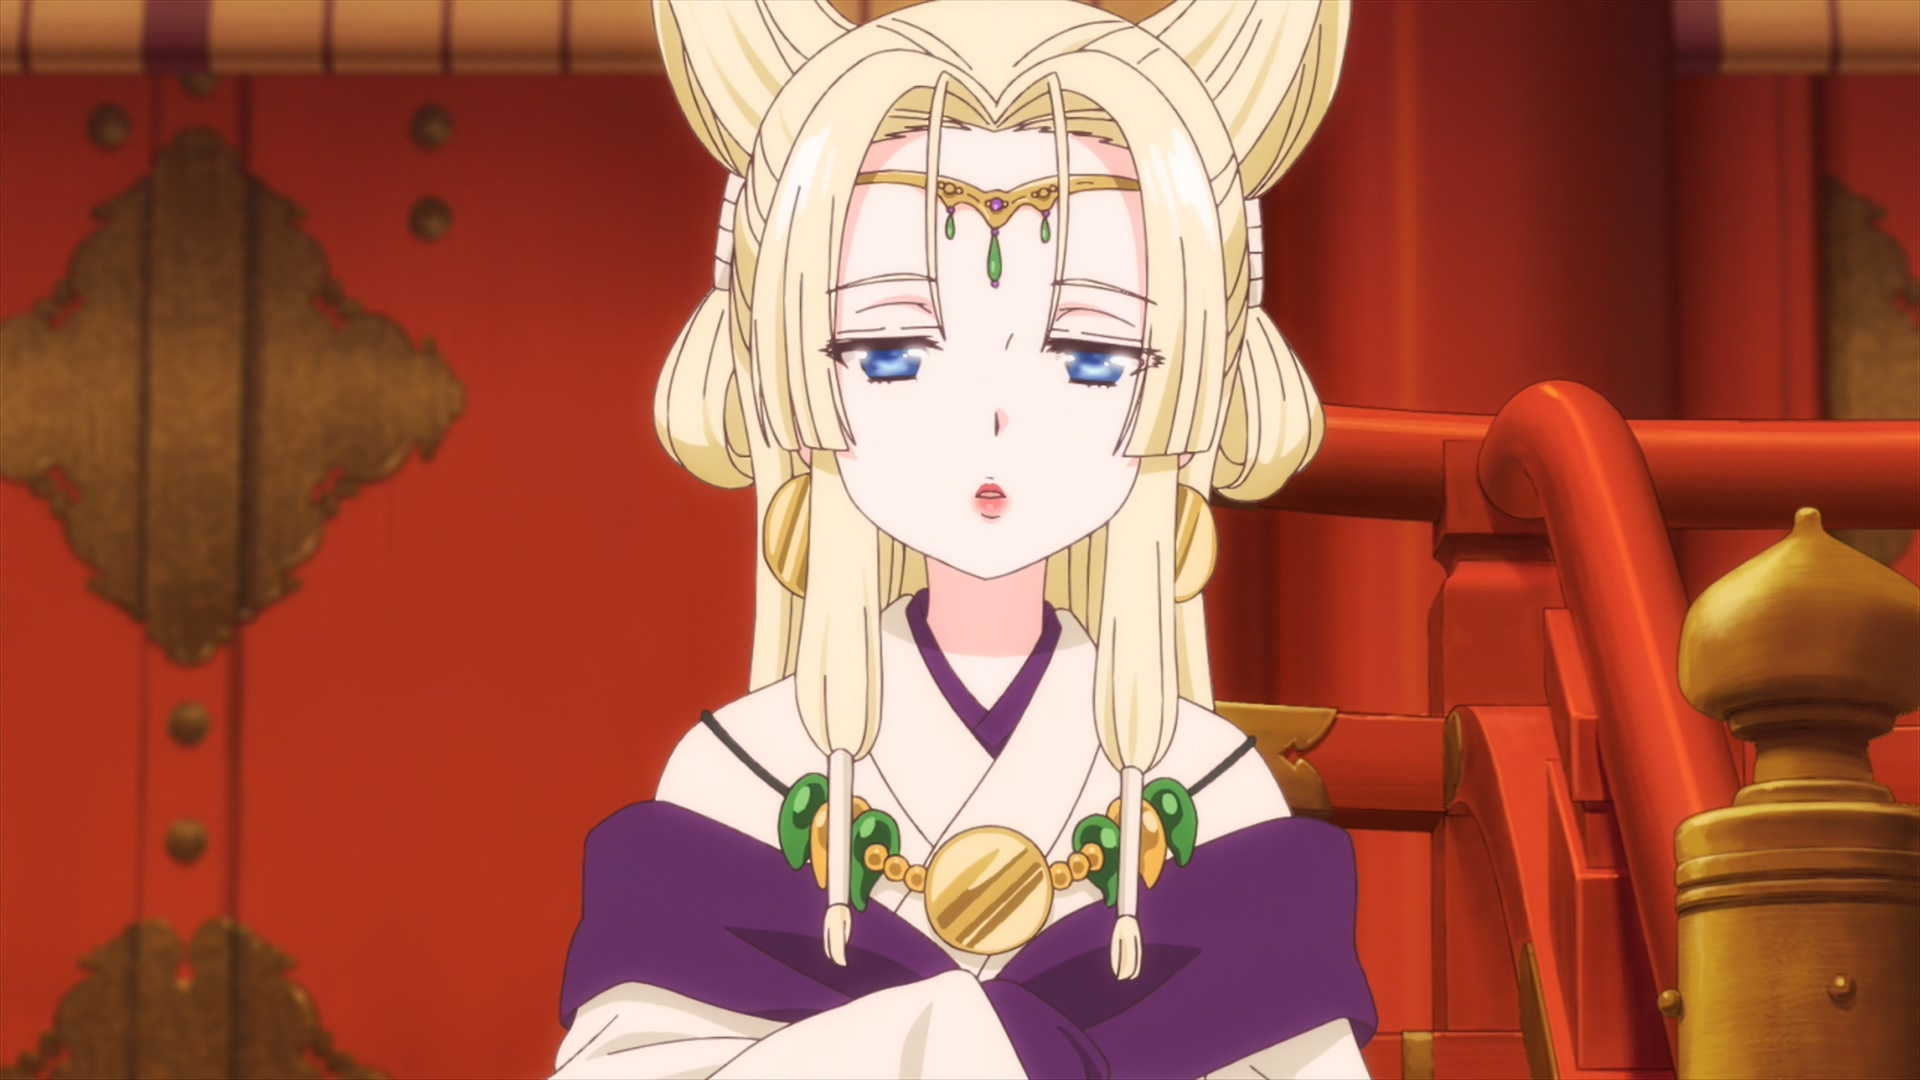其他: (549, 1, 1379, 1080)
